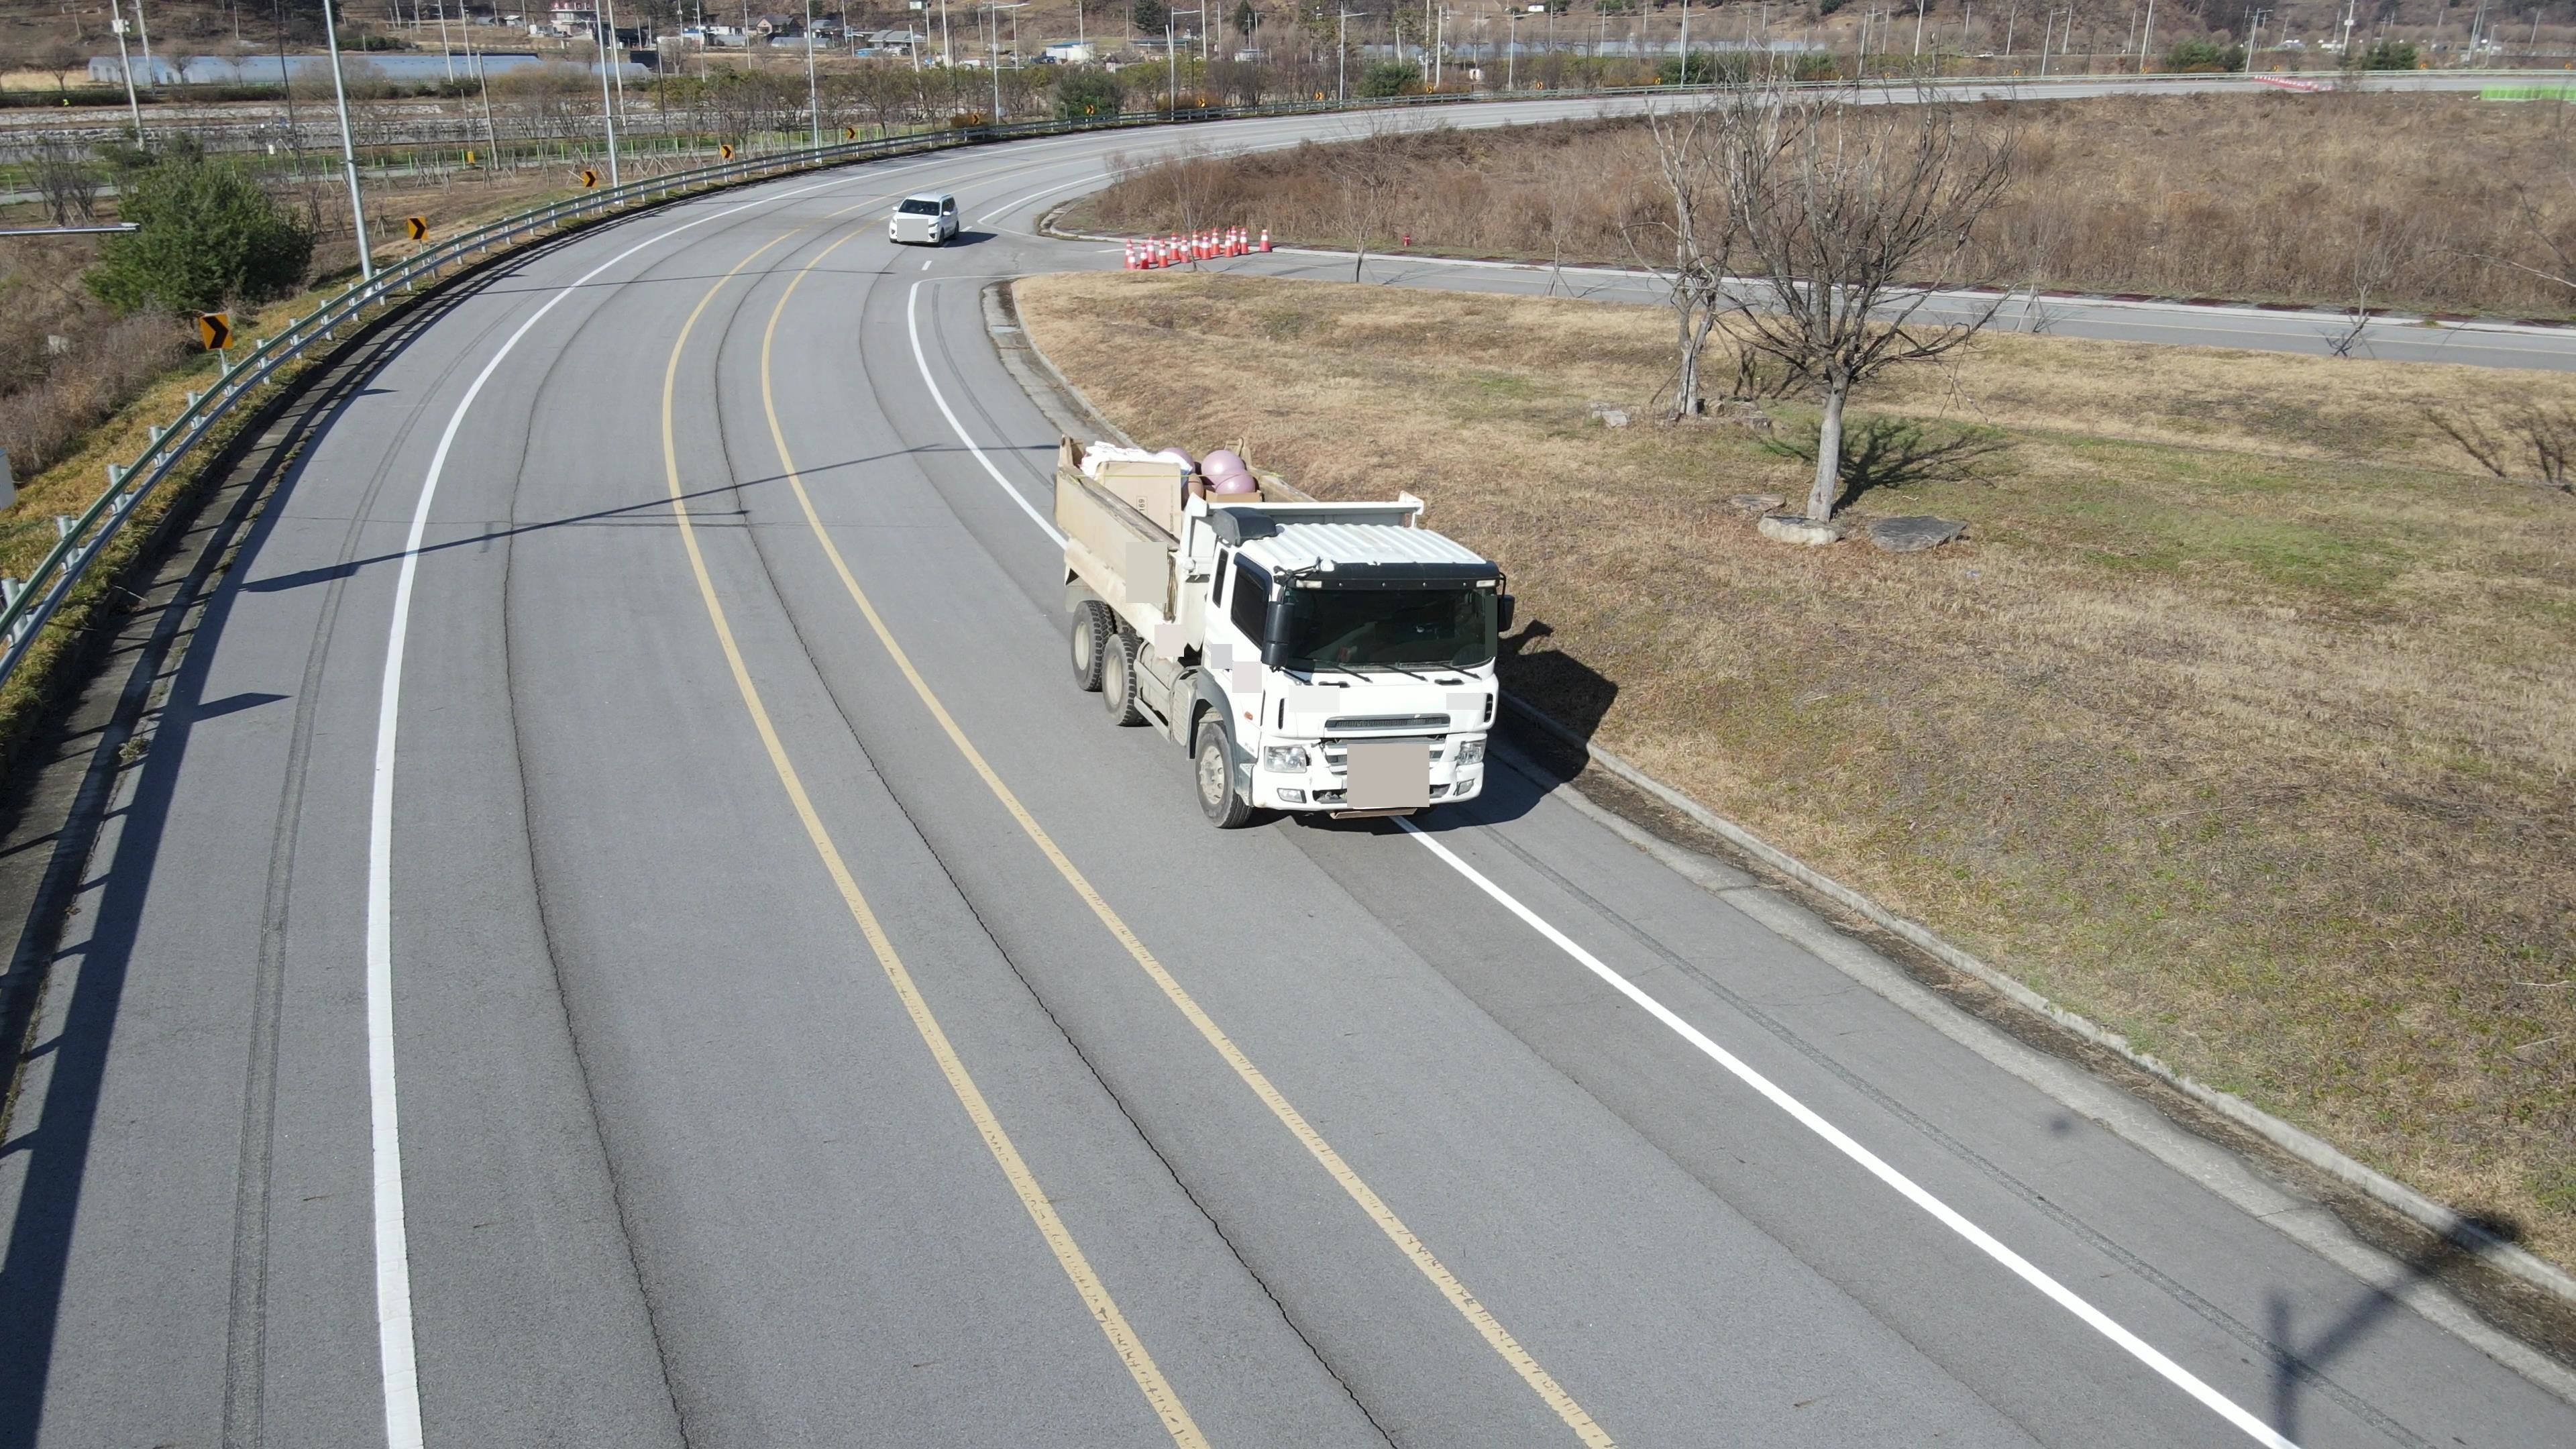불법차량: (1054, 433, 1514, 830)
